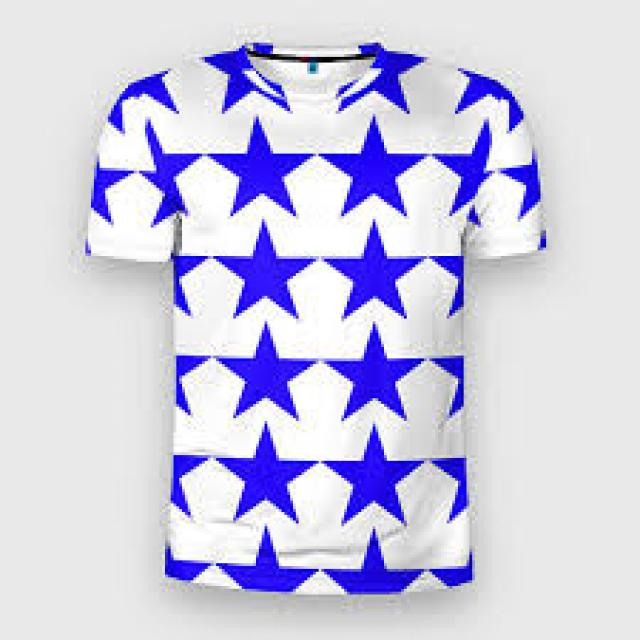Shirt: (64, 30, 572, 606)
